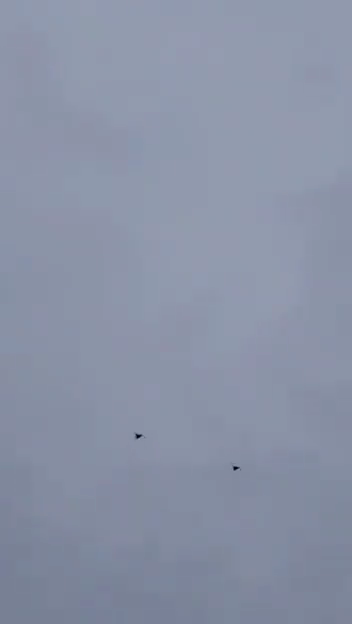shahed: (134, 427, 148, 443), (231, 462, 242, 475)
